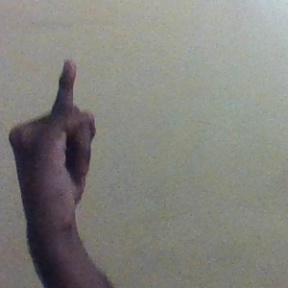I: (10, 56, 98, 217)
